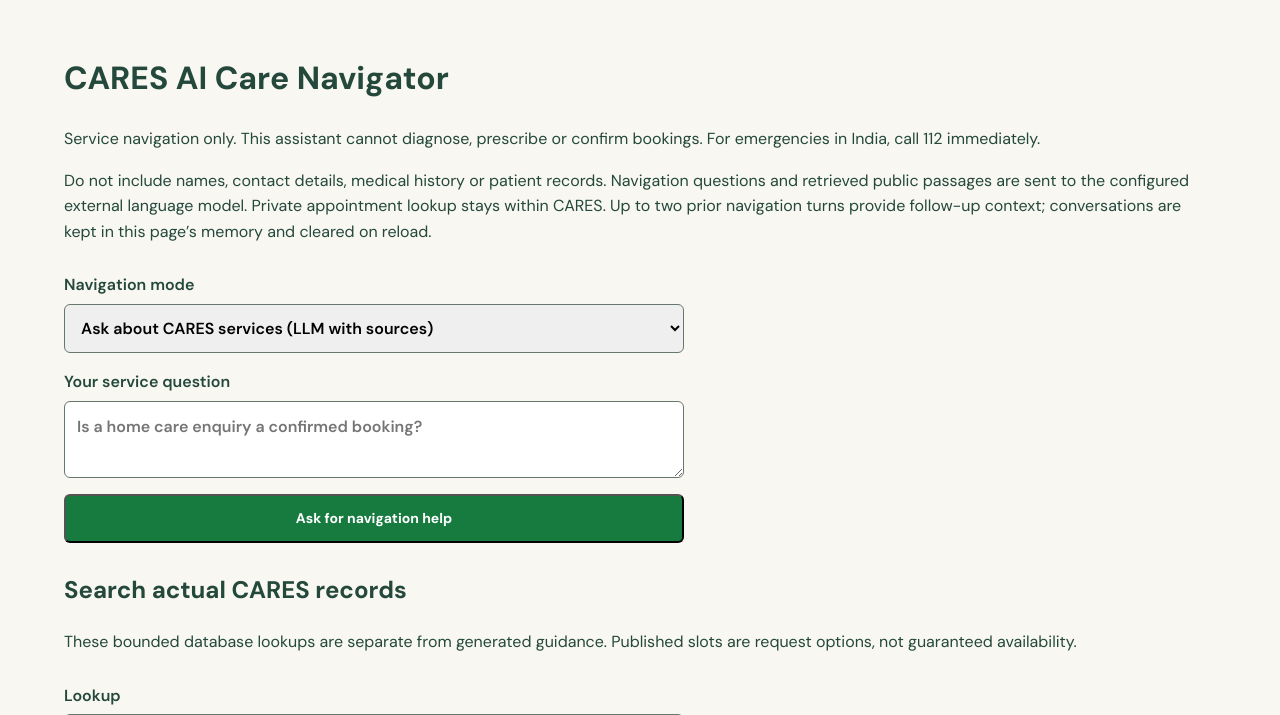
Scenario: connects to backend RAG, renders traceable citations, and handles unavailability
The width and height of the screenshot is (1280, 715).
Type "What is home care?" into the text box labelled "Your service question" at point(374, 439), box [64,401,684,478]
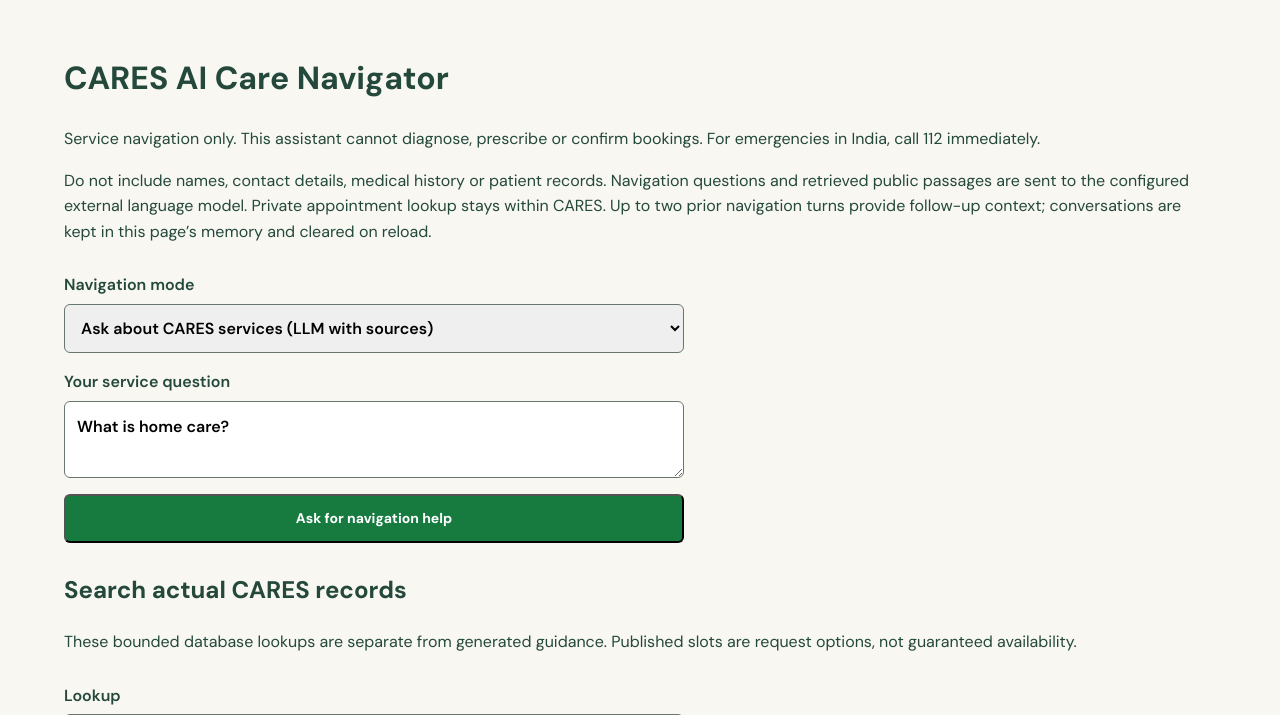
Click the button "Ask for navigation help" at point(374, 518), box [64,494,684,543]
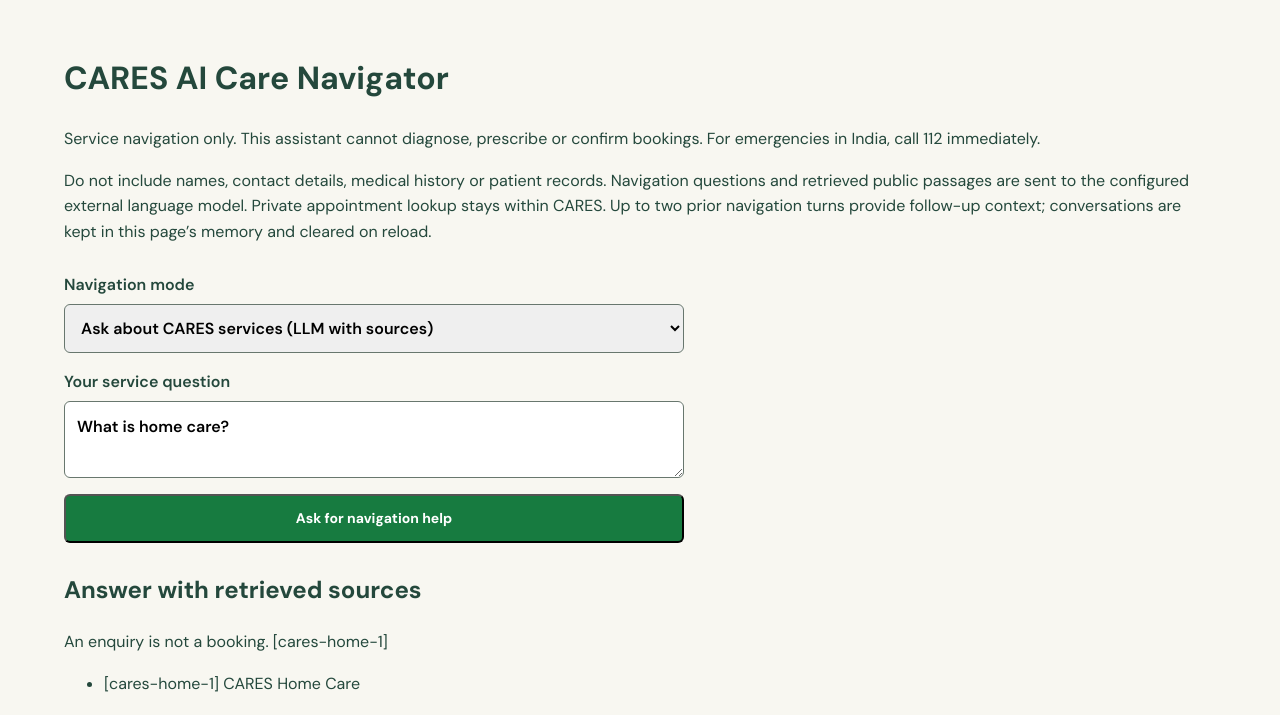
Result: the link "[cares-home-1] CARES Home Care" is shown at [104,673,360,694]
Click the button "Ask for navigation help" at point(374, 518), box [64,494,684,543]
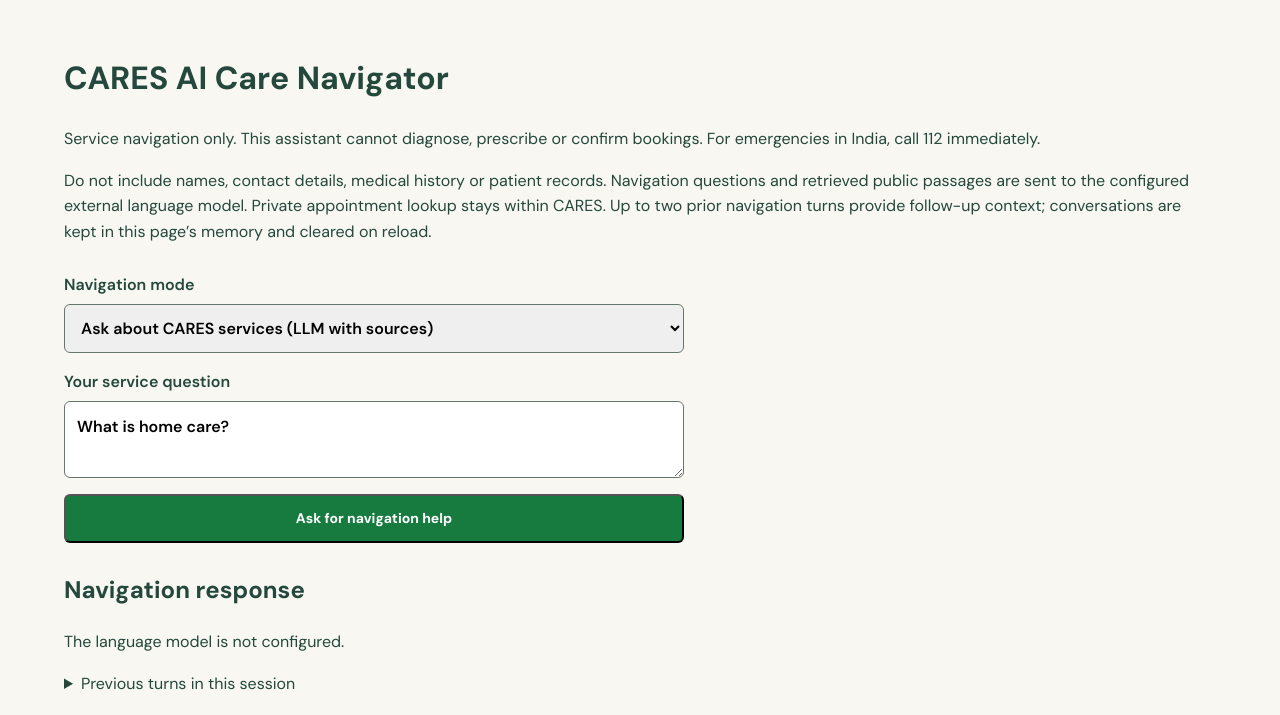
Result: the text "The language model is not configured." is shown at [64,631,344,652]
